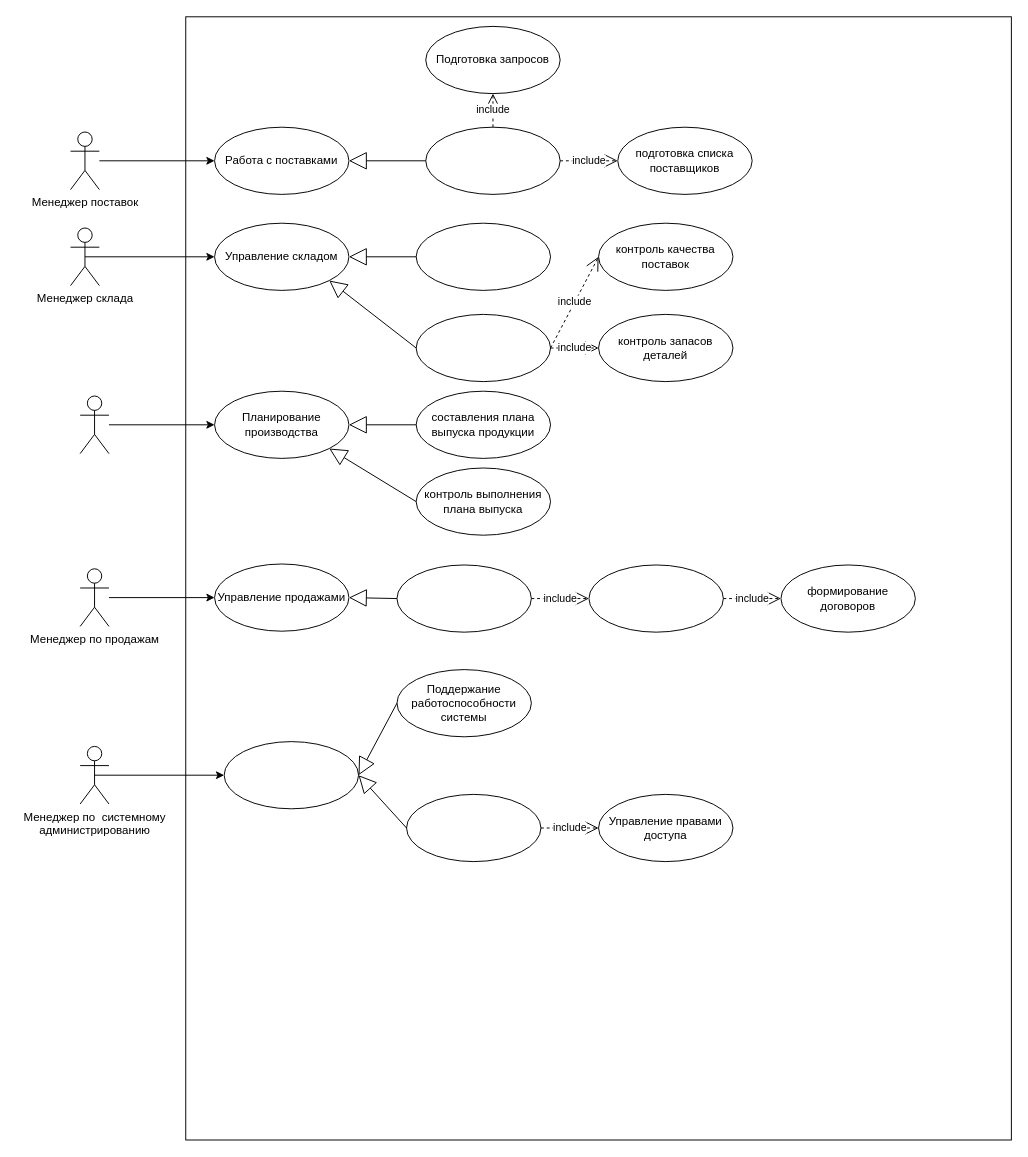
Image size: 1028x1157. Some labels were removed from this diagram. Here are the shapes that lost their labels. From the top down, the centre of each, then its label:
the point at 492,160: Управление контрактами
the point at 483,256: логистика (отправка) заказов
the point at 483,347: логистика (перемещение) запасов
the point at 94,424: Менеджер по планированию производства
the point at 463,598: Работа с клиентами
the point at 655,598: Подготовка коммерческих предложений
the point at 291,775: Администрирование системы
the point at 473,827: Мониторинг безопасности
